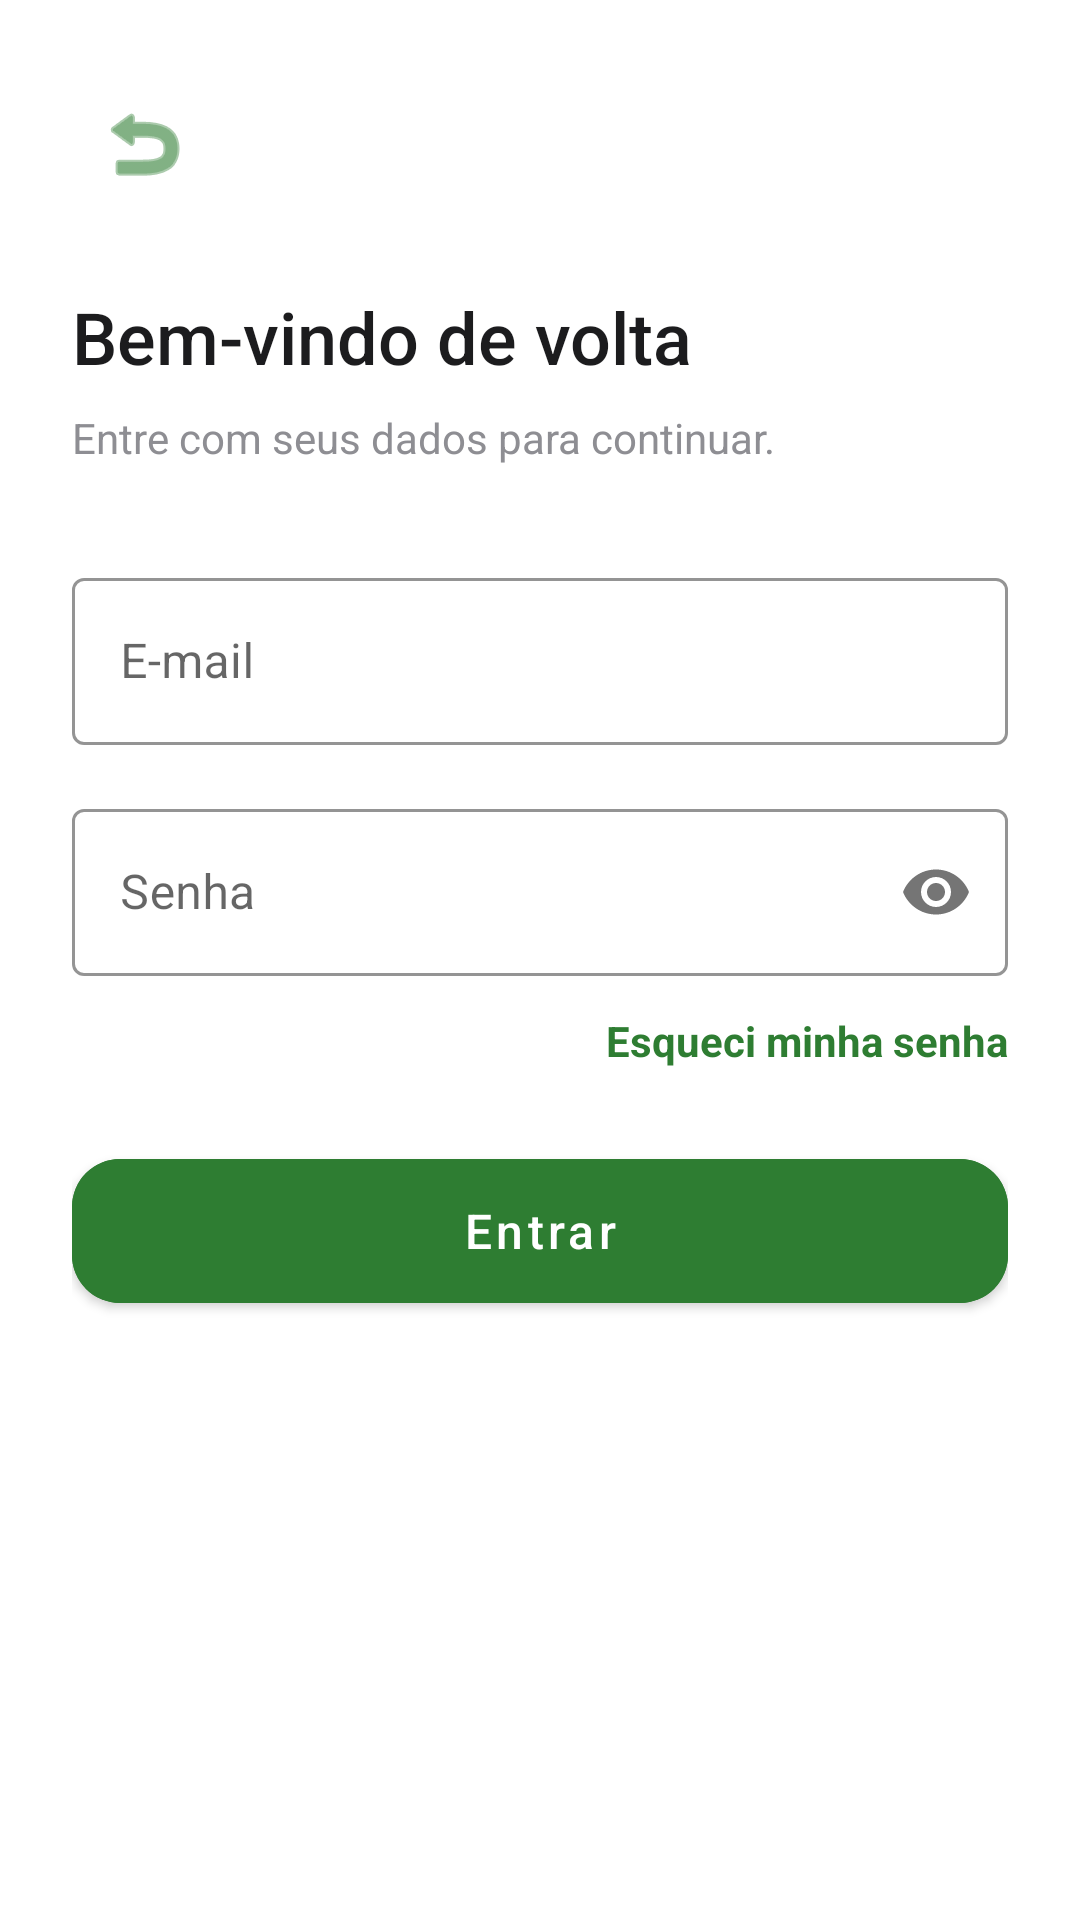

Where icons sit on this 1080w x 1920h app screen, as (x1, y1, x2, y2):
revert: (111, 113, 180, 176)
